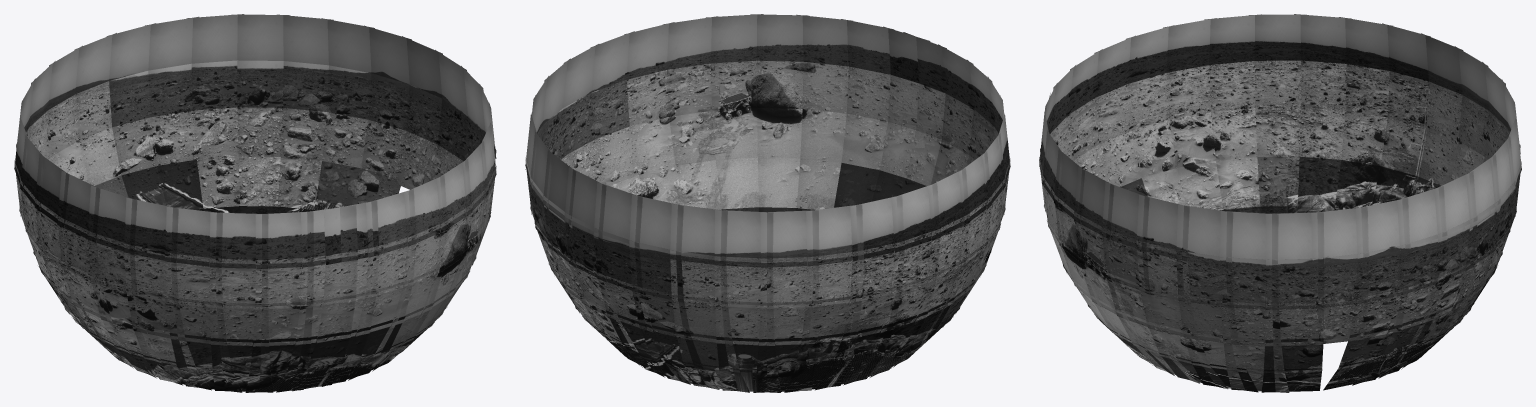
File: IMP_Explorer_Scene.glb
3 views of the same model, side by side, from view 1: azimuth 30°, elevation 25°; view 2: azimuth 150°, elevation 25°; view 3: azimuth 270°, elevation 25° (orthographic).
Parts seen in each view (by area): view 1: plane_139, plane_140, plane_138, plane_137, plane_89, plane_122, plane_123, plane_156, plane_90, plane_88, plane_121, plane_157 (+97 smaller); view 2: plane_162, plane_161, plane_163, plane_160, plane_131, plane_159, plane_78, plane_79, plane_111, plane_112, plane_145, plane_77 (+97 smaller); view 3: plane_151, plane_150, plane_152, plane_149, plane_153, plane_67, plane_148, plane_100, plane_66, plane_68, plane_134, plane_101 (+91 smaller).
Part boxes in pixels (bbox=[...]): plane_139: bbox=[210, 212, 268, 269]; plane_140: bbox=[255, 211, 314, 269]; plane_138: bbox=[165, 207, 222, 267]; plane_137: bbox=[124, 197, 178, 262]; plane_89: bbox=[237, 107, 282, 156]; plane_122: bbox=[237, 60, 283, 107]; plane_123: bbox=[191, 60, 237, 110]; plane_156: bbox=[231, 14, 289, 60]; plane_90: bbox=[193, 107, 238, 159]; plane_88: bbox=[281, 108, 326, 160]; plane_121: bbox=[283, 61, 328, 111]; plane_157: bbox=[187, 14, 244, 63]; plane_162: bbox=[760, 210, 819, 267]; plane_161: bbox=[714, 210, 773, 267]; plane_163: bbox=[806, 204, 863, 266]; plane_160: bbox=[670, 204, 727, 266]; plane_131: bbox=[850, 195, 904, 261]; plane_159: bbox=[629, 194, 683, 260]; plane_78: bbox=[757, 108, 802, 158]; plane_79: bbox=[712, 108, 757, 159]; plane_111: bbox=[757, 60, 803, 108]; plane_112: bbox=[711, 60, 756, 110]; plane_145: bbox=[751, 14, 808, 61]; plane_77: bbox=[800, 109, 846, 162]; plane_151: bbox=[1265, 212, 1324, 268]; plane_150: bbox=[1220, 211, 1278, 269]; plane_152: bbox=[1311, 207, 1368, 267]; plane_149: bbox=[1176, 204, 1233, 267]; plane_153: bbox=[1355, 198, 1410, 263]; plane_67: bbox=[1255, 107, 1300, 156]; plane_148: bbox=[1136, 194, 1189, 261]; plane_100: bbox=[1254, 60, 1300, 107]; plane_66: bbox=[1299, 107, 1345, 159]; plane_68: bbox=[1211, 108, 1257, 160]; plane_134: bbox=[1248, 14, 1306, 60]; plane_101: bbox=[1209, 61, 1255, 111].
Size of the model in its own units: 30.42 by 14.8 by 30.43.
164 materials, 164 textured.
